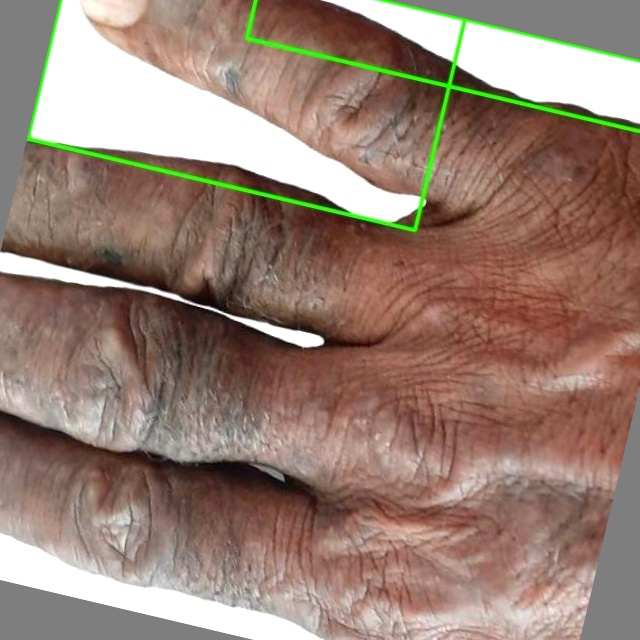Eczema: (27, 0, 464, 230), (246, 0, 639, 131)
